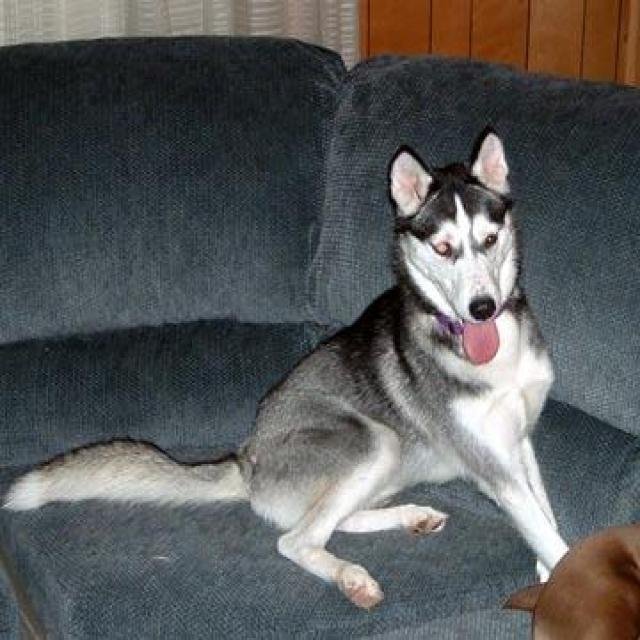happy: (1, 125, 616, 617)
